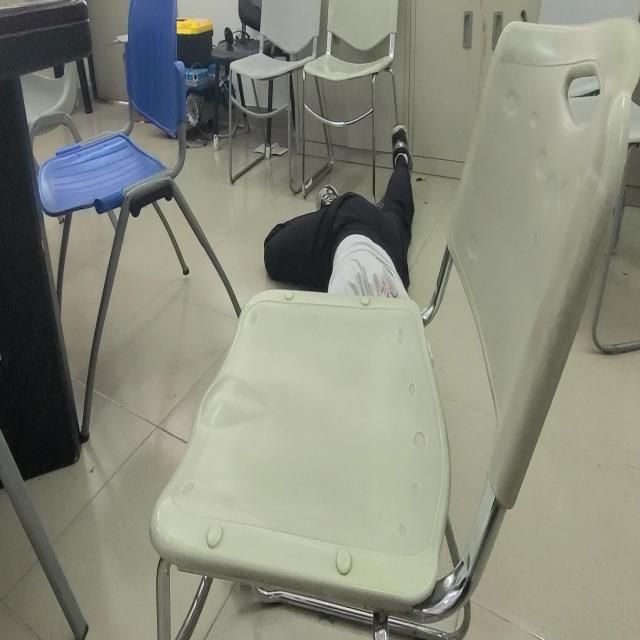Fall-Detected: (261, 122, 418, 321)
